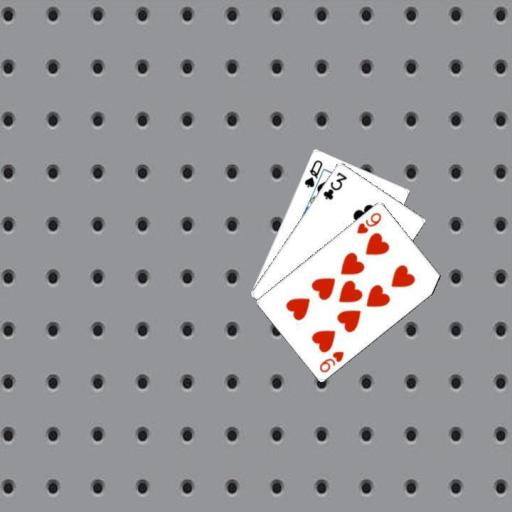card-corner: (320, 169, 348, 201), (354, 209, 384, 235), (316, 348, 346, 374), (301, 157, 324, 189)
